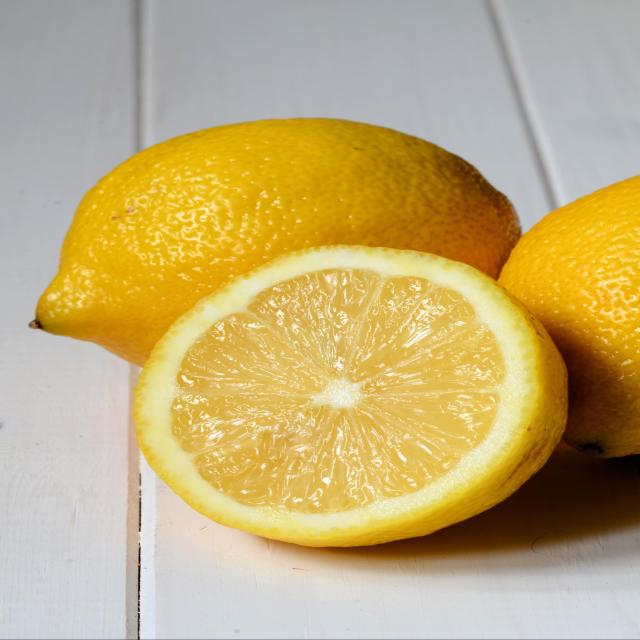lemon: (125, 238, 577, 556)
